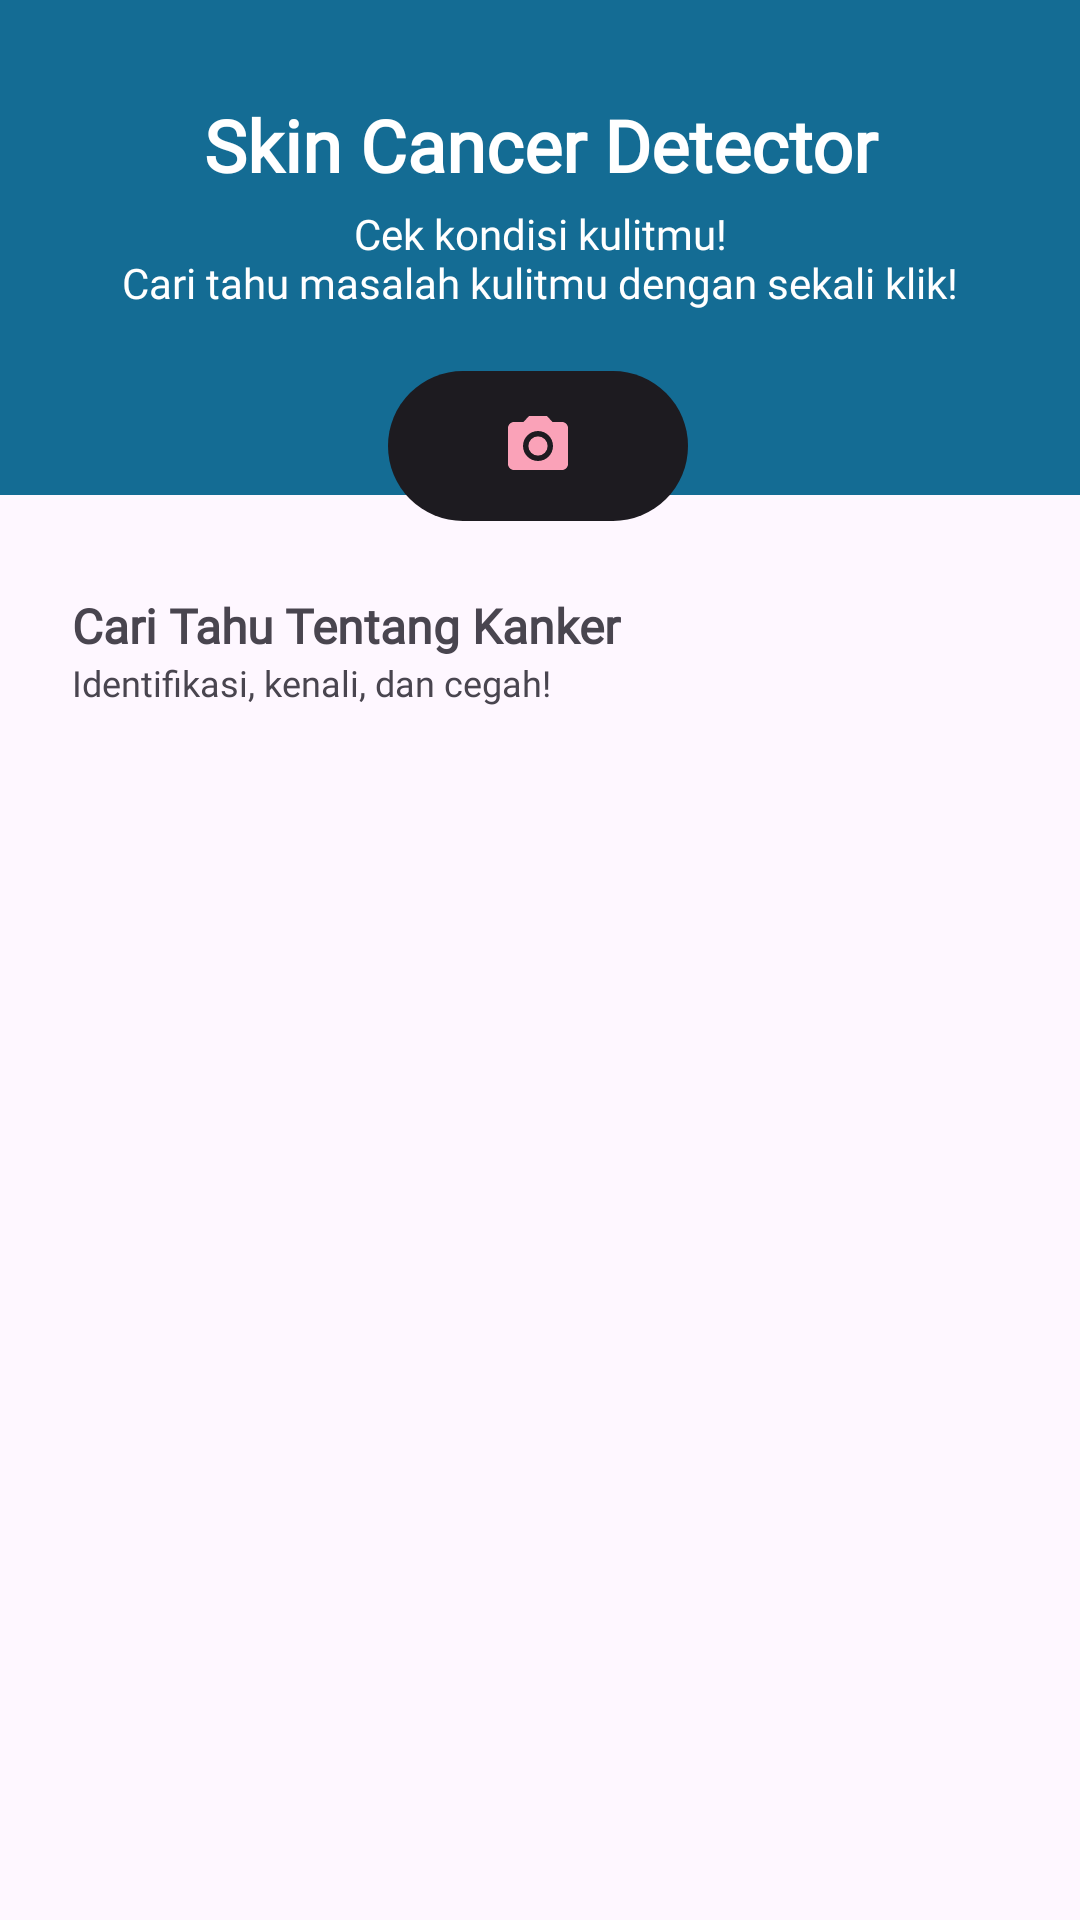

Screen size 1080×1920. Icon name, then its box in pixels as (x1, y1, x2, y2):
camera: (388, 371, 688, 521)
